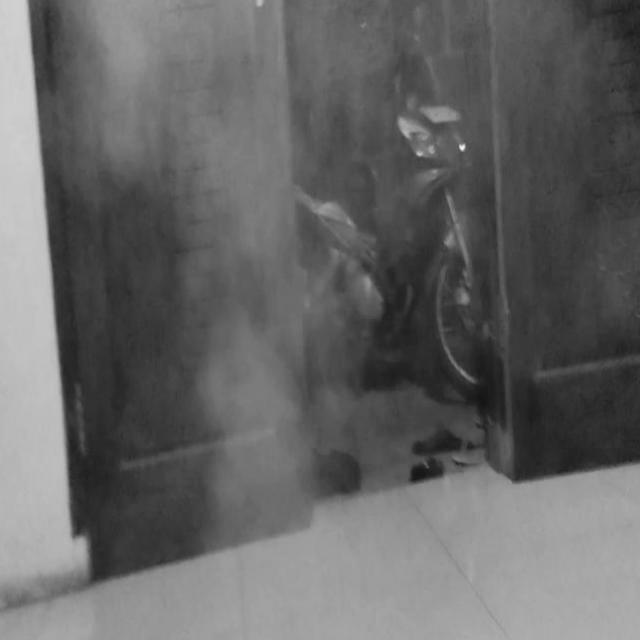fire: (61, 0, 356, 547)
